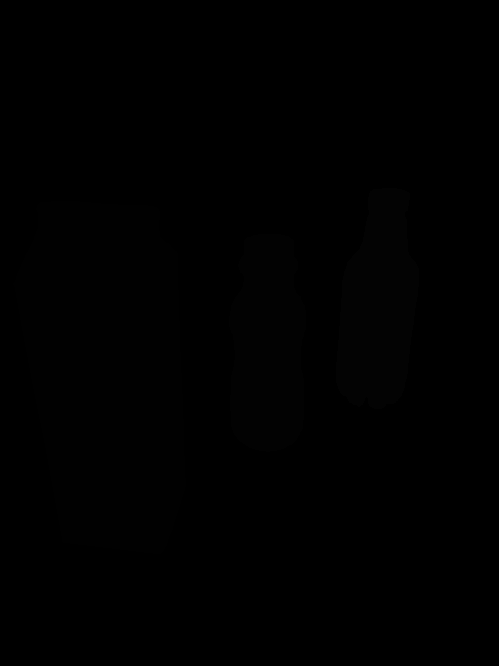carton: (9, 198, 190, 557)
milk_bottle: (227, 232, 306, 455)
water_bottle: (333, 186, 420, 410)
